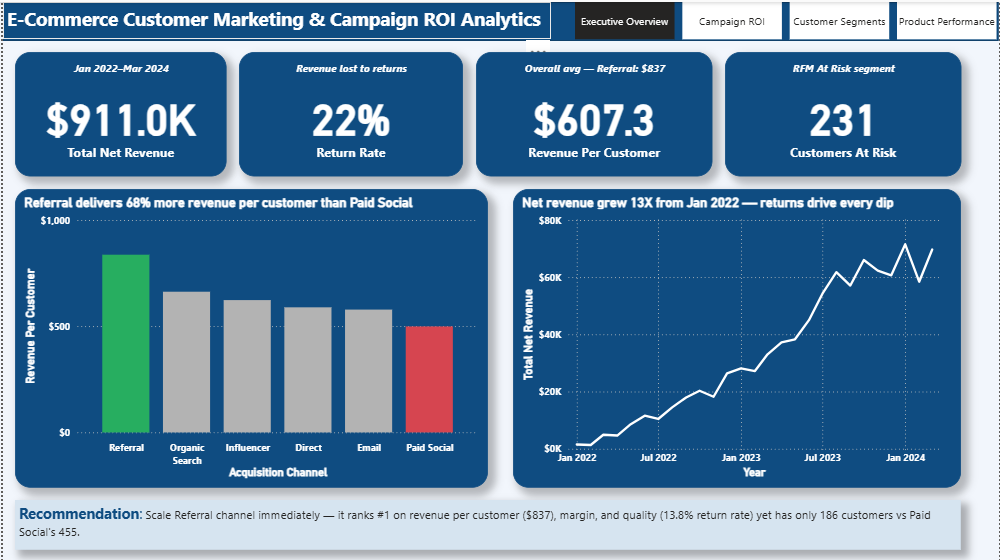

Layout of this report page (visuals, bound fields, positions):
{"tool":"powerbi","page":{"name":"Executive Overview","canvas":[1280,720],"ordinal":0},"visuals":[{"type":"shape","box":[0,0,1280,50],"z":0},{"type":"pageNavigator","box":[736,0,544,48],"z":1000},{"type":"textbox","box":[0,0,704,48],"z":2000},{"type":"card","fields":{"Values":["Measures (2).Total Net Revenue"]},"box":[16,64,272,160],"z":3000},{"type":"card","fields":{"Values":["Measures (2).Return Rate"]},"box":[304,64,288,160],"z":4000},{"type":"card","fields":{"Values":["Measures (2).Revenue Per Customer"]},"box":[608,64,304,160],"z":5000},{"type":"card","fields":{"Values":["Measures (2).Customers At Risk"]},"box":[928,64,304,160],"z":6000},{"type":"lineChart","title":"Net revenue grew 13X from Jan 2022 — returns drive every dip","fields":{"Y":["Measures (2).Total Net Revenue"],"Category":["orders.order_month.Variation.Date Hierarchy.Year","orders.order_month.Variation.Date Hierarchy.Quarter","orders.order_month.Variation.Date Hierarchy.Month","orders.order_month.Variation.Date Hierarchy.Day"]},"box":[656,240,576,384],"z":7000},{"type":"clusteredColumnChart","title":"Referral delivers 68% more revenue per customer than Paid Social","fields":{"Category":["customers.acquisition_channel"],"Y":["Measures (2).Revenue Per Customer"]},"box":[16,240,608,384],"z":8000},{"type":"textbox","box":[16,640,1216,64],"z":9000}]}

Visuals, with their boxes in screenshot pixels (x1, y1, x2, y2), scaled from the page's 1280x720 canvas onto the 1000x560 screenshot:
shape: pyautogui.locateOnScreen(0, 0, 999, 39)
pageNavigator: pyautogui.locateOnScreen(575, 0, 999, 37)
textbox: pyautogui.locateOnScreen(0, 0, 550, 37)
card - Measures (2).Total Net Revenue: pyautogui.locateOnScreen(12, 50, 225, 174)
card - Measures (2).Return Rate: pyautogui.locateOnScreen(238, 50, 462, 174)
card - Measures (2).Revenue Per Customer: pyautogui.locateOnScreen(475, 50, 712, 174)
card - Measures (2).Customers At Risk: pyautogui.locateOnScreen(725, 50, 962, 174)
"Net revenue grew 13X from Jan 2022 — returns drive every dip" lineChart: pyautogui.locateOnScreen(512, 187, 962, 485)
"Referral delivers 68% more revenue per customer than Paid Social" clusteredColumnChart: pyautogui.locateOnScreen(12, 187, 488, 485)
textbox: pyautogui.locateOnScreen(12, 498, 962, 548)
